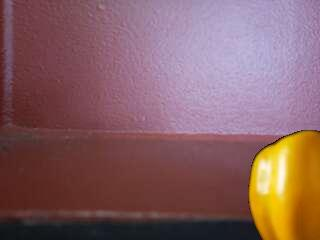Capsicum: (249, 129, 320, 240)
